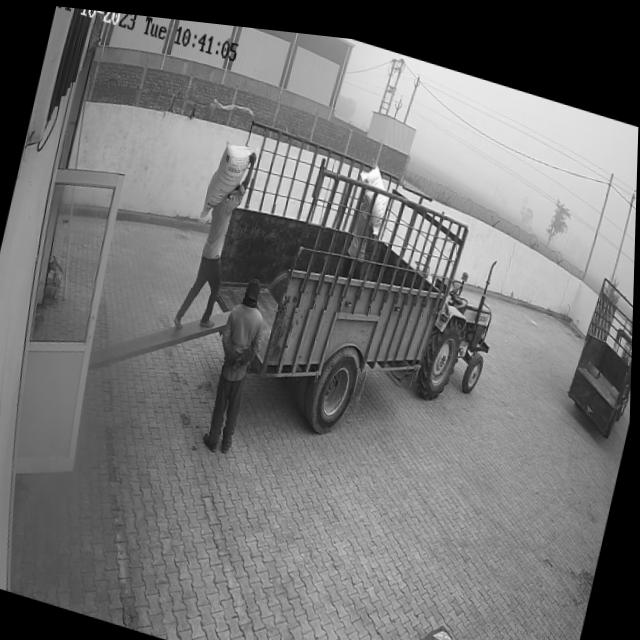sack: (200, 132, 253, 225)
